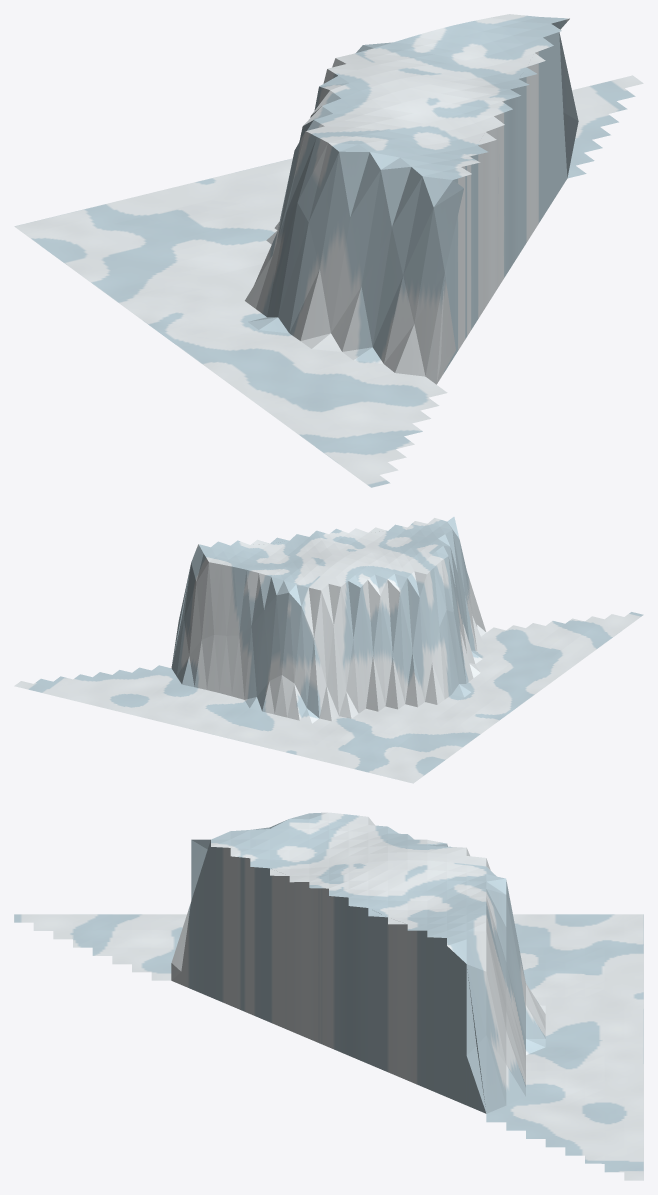
Rendered from Snow_Mountains_04_SW.obj.
The picture shows the model from 3 angles, top to bottom: view 1: azimuth 30°, elevation 25°; view 2: azimuth 150°, elevation 25°; view 3: azimuth 270°, elevation 25°; orthographic projection. The views are drawn at different scales.
Size of the model in its own units: 10 by 2.84 by 10.
1 material, 1 textured.
